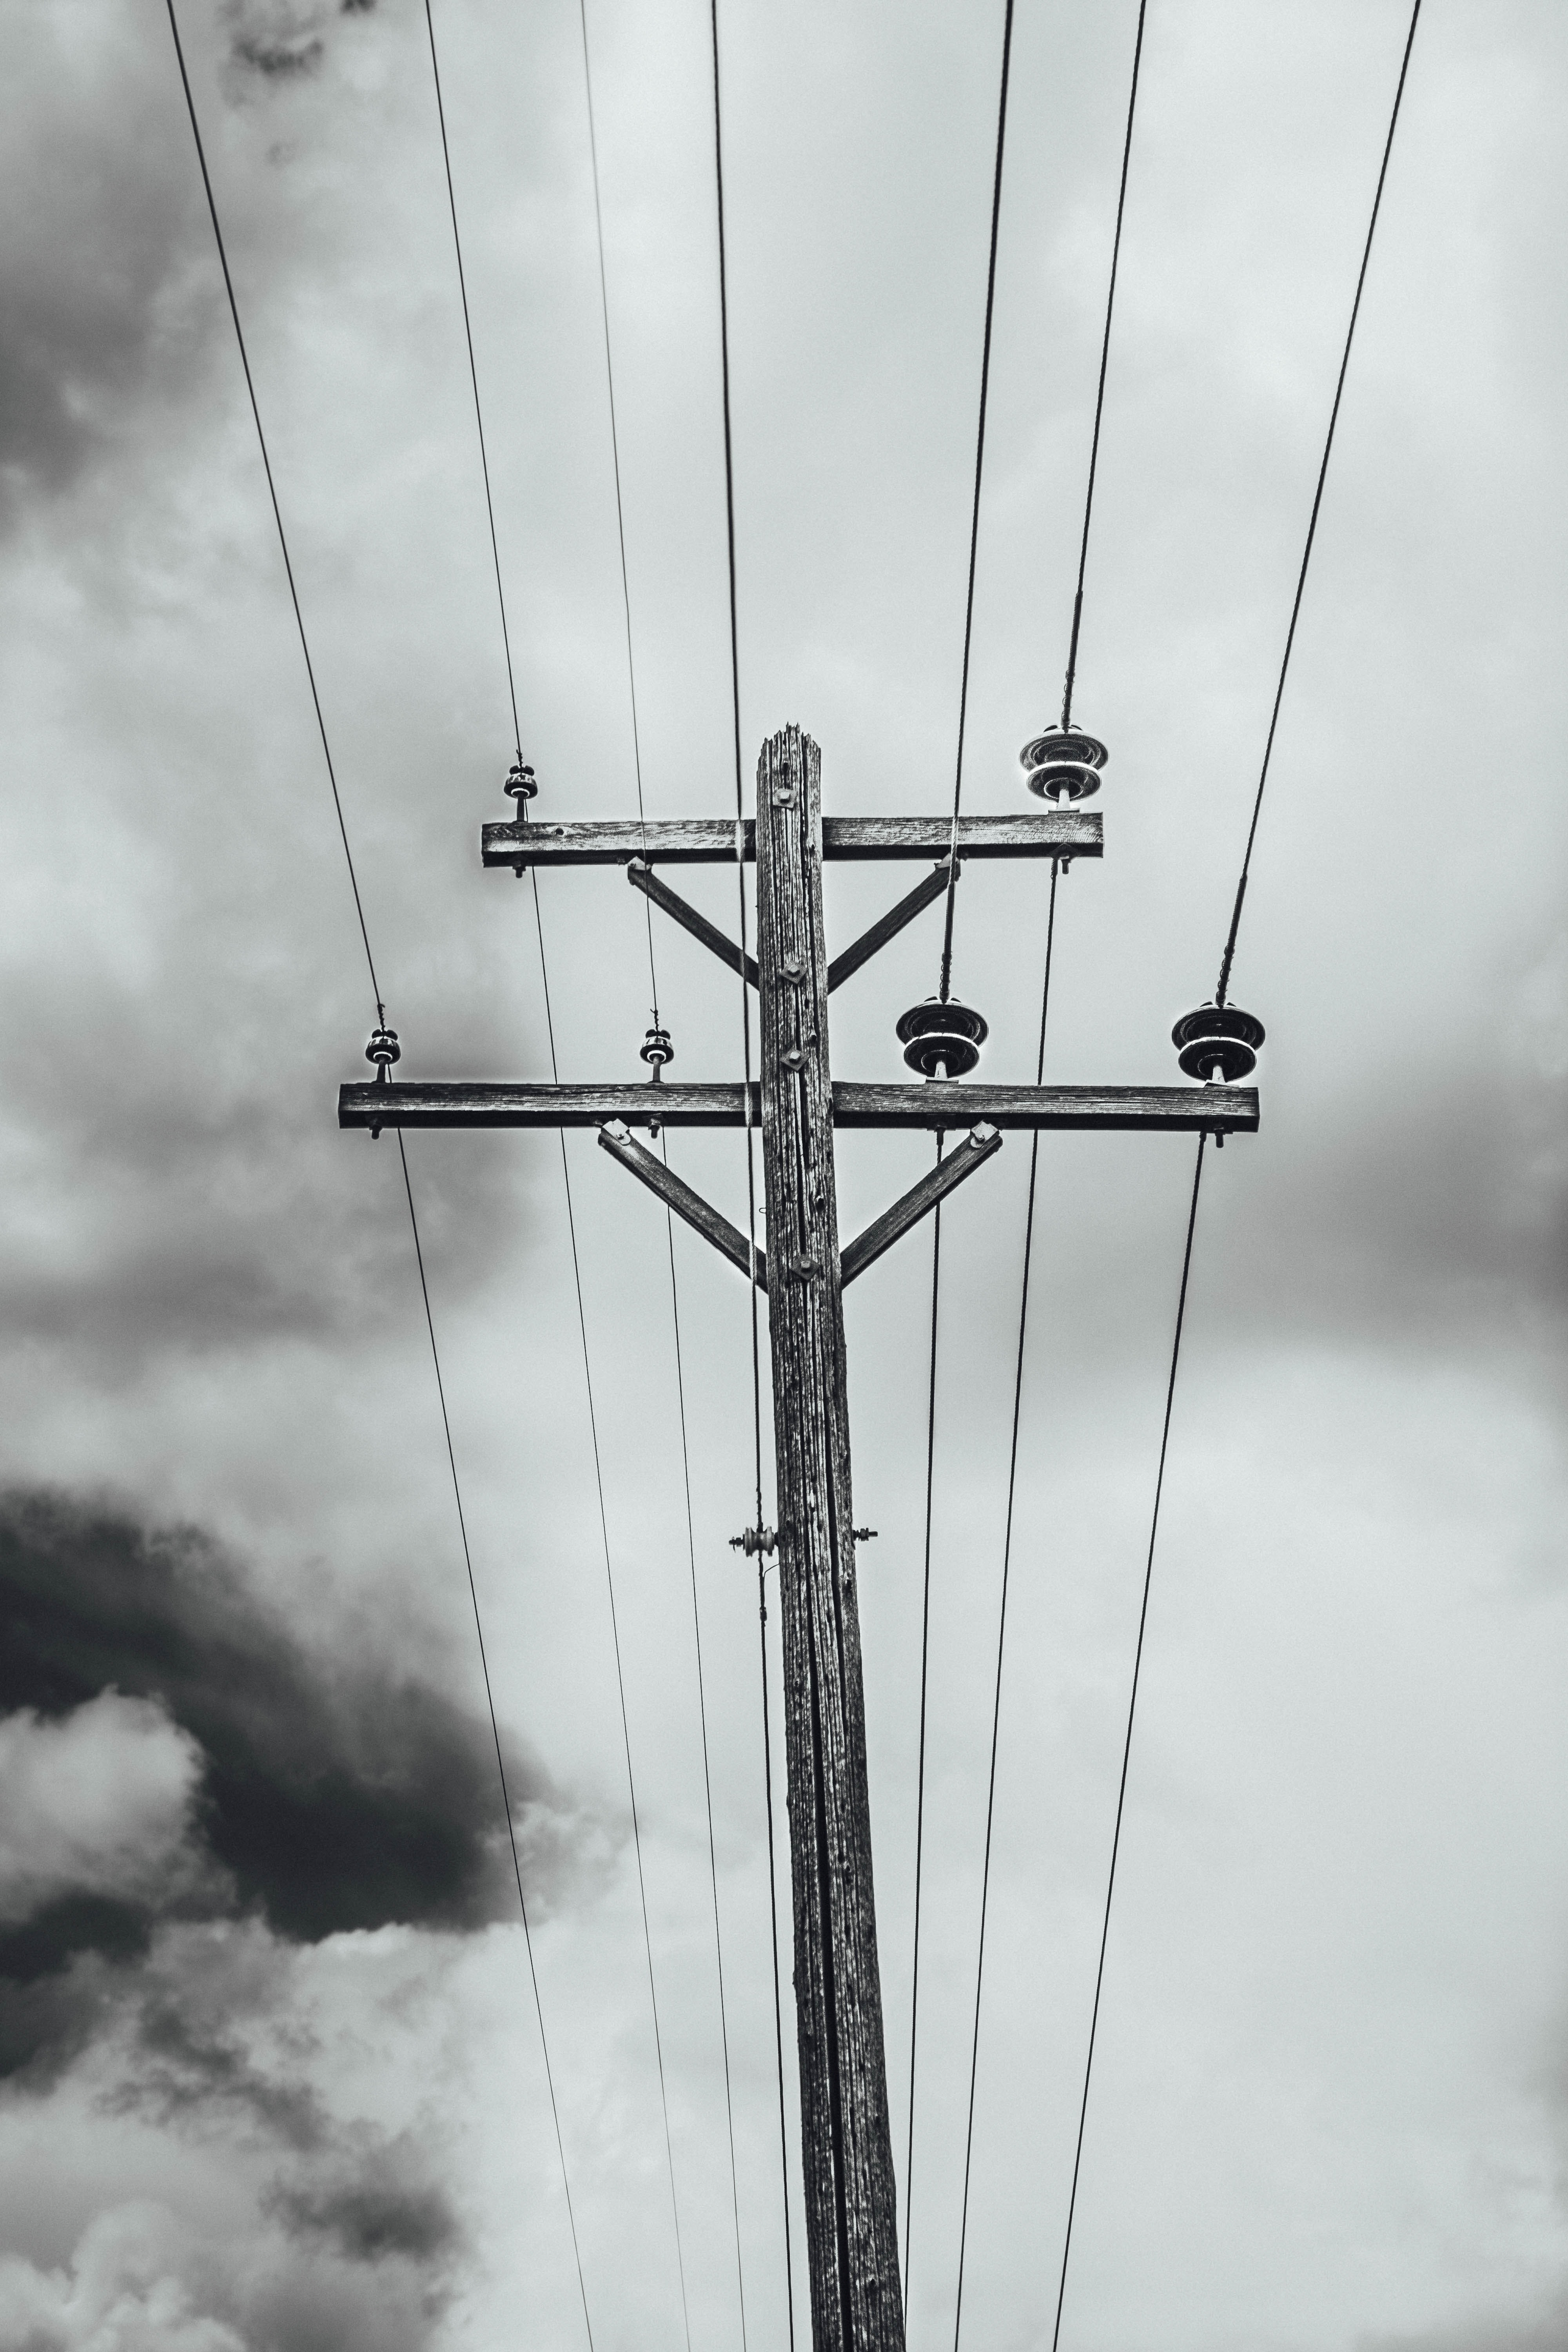utility_pole: (301, 674, 1293, 1480)
